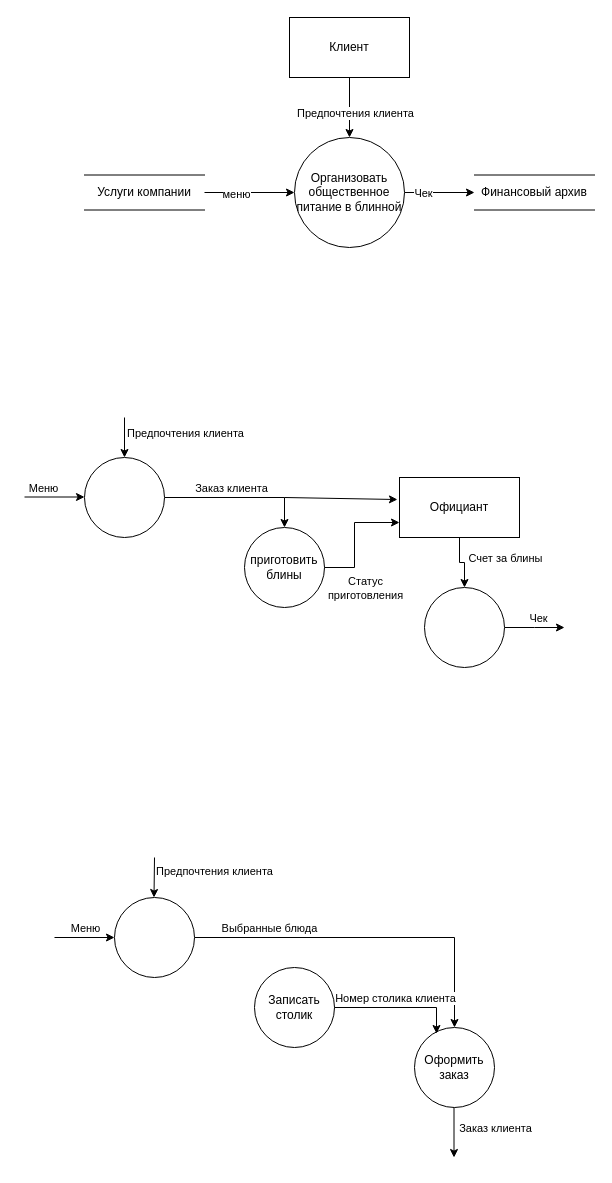
Some shapes in this 612 by 1183 pixel diagram are drawn without their labels. Each missing label, with the centre of its shape:
Информировать об услугах: point 124,497
Консультация: point 154,937
обслужить посетителей: point 464,627
